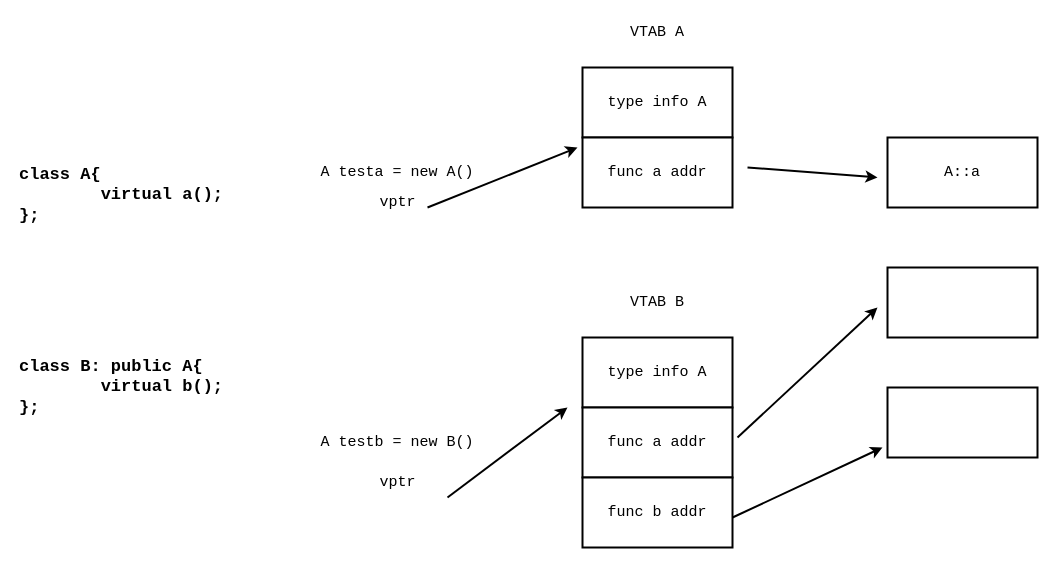
Some shapes in this 1055 by 565 pixel diagram are drawn without their labels. Each missing label, with the box of its shape:
B::a: (886, 266, 1038, 338)
B::b: (886, 386, 1038, 458)
